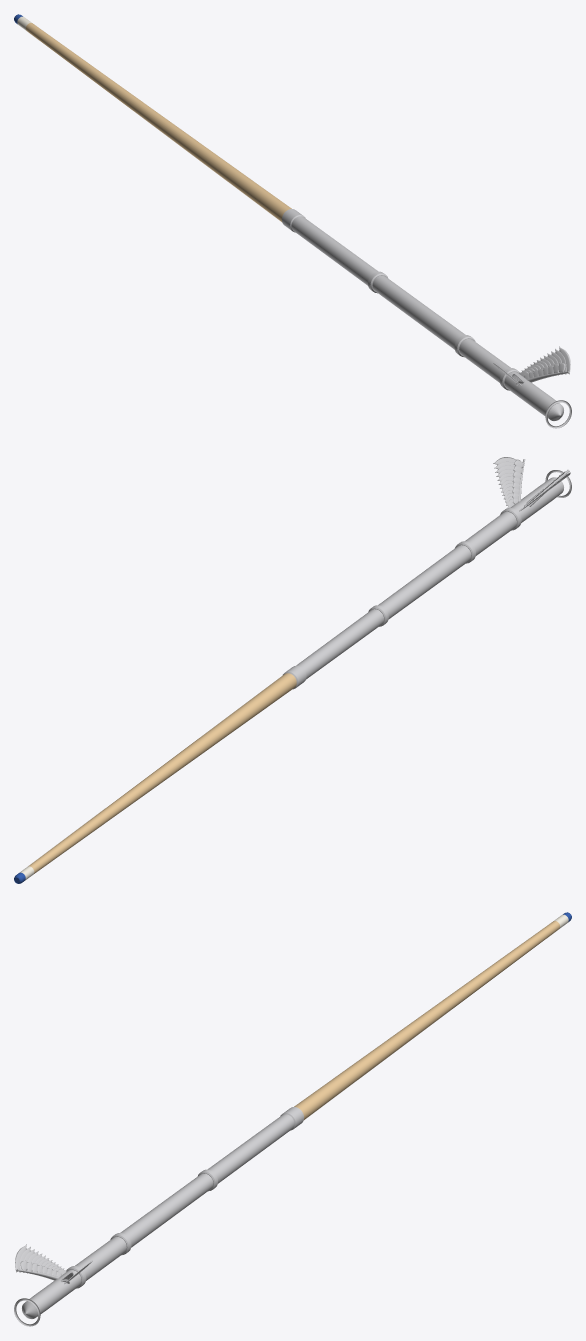
Rendered from cue_seraph.glb.
3 views of the same model, one above another, from view 1: azimuth 30°, elevation 25°; view 2: azimuth 150°, elevation 25°; view 3: azimuth 330°, elevation 25° (orthographic).
Visible parts, largest first — view 1: ivory, shaft, feather, gold; view 2: ivory, shaft, feather, gold; view 3: ivory, shaft, feather, gold.
Boxes of the visible parts, x1,y1,x2,y2 form: ivory: [291, 216, 563, 420]; shaft: [26, 23, 291, 221]; feather: [493, 346, 570, 385]; gold: [281, 209, 519, 390]; ivory: [296, 477, 563, 679]; shaft: [28, 673, 296, 874]; feather: [493, 457, 570, 511]; gold: [283, 507, 521, 689]; ivory: [22, 1114, 294, 1318]; shaft: [294, 921, 559, 1119]; feather: [15, 1244, 92, 1283]; gold: [66, 1107, 304, 1288].
Bounding box in the file's own units: 0.1019 × 0.0732 × 1.44.
